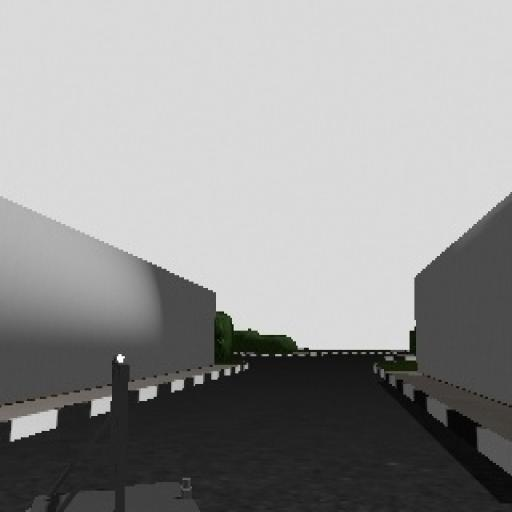huskya200: (18, 351, 211, 512)
